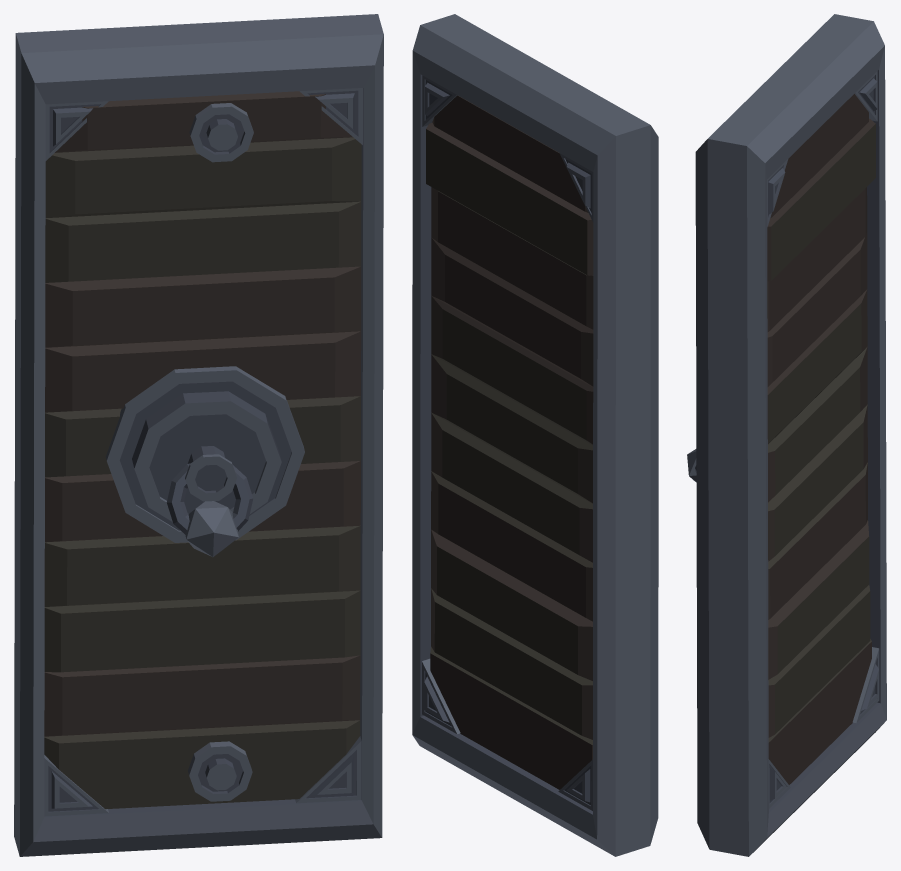
Rendered from dar_chap.glb.
3 renders of one model, left to right at view 1: azimuth 30°, elevation 25°; view 2: azimuth 150°, elevation 25°; view 3: azimuth 270°, elevation 25°, orthographic. The views are drawn at different scales.
Parts seen in each view (by area): view 1: Cube.002_0.002; view 2: Cube.002_0.002; view 3: Cube.002_0.002.
Part boxes in pixels (x1=…): Cube.002_0.002: x1=14, y1=14, x2=383, y2=856; Cube.002_0.002: x1=412, y1=14, x2=658, y2=856; Cube.002_0.002: x1=687, y1=14, x2=886, y2=856.
Bounding box in the file's own units: 12.43 × 31.08 × 7.91.
